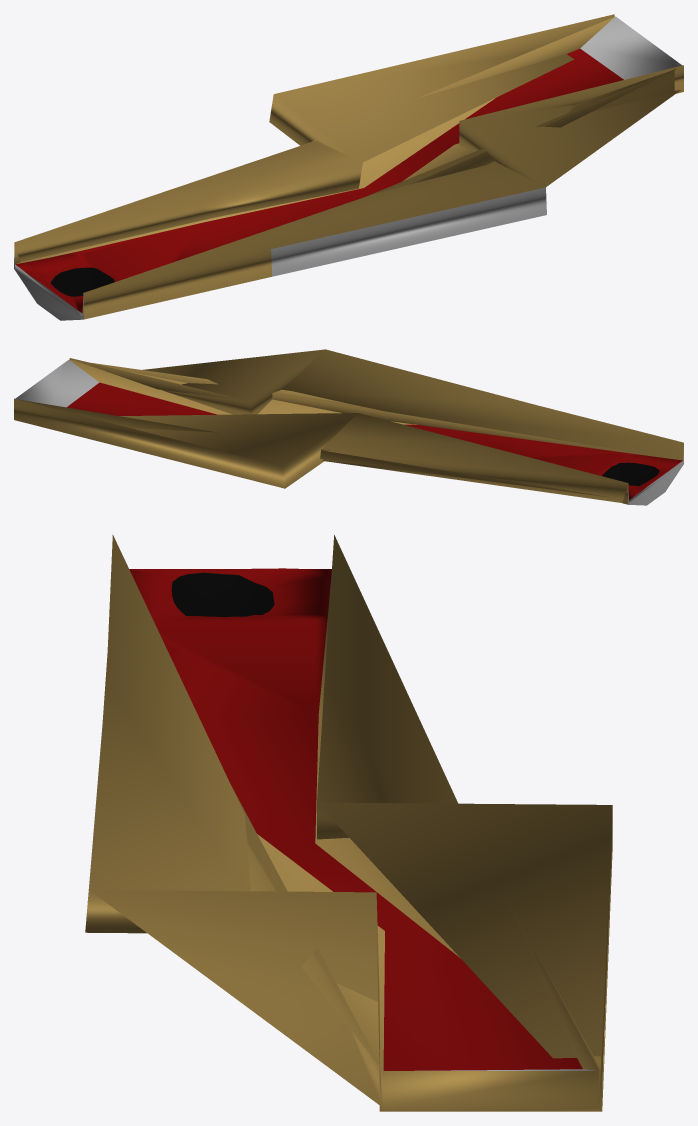
Rendered from testtrack4.fbx.
3 views of the same model, one above another, from view 1: azimuth 30°, elevation 25°; view 2: azimuth 150°, elevation 25°; view 3: azimuth 270°, elevation 25° (orthographic). The views are drawn at different scales.
Visible parts, largest first — view 1: pCube1; view 2: pCube1; view 3: pCube1.
Boxes of the visible parts, <box> form: pCube1: <box>14,14,683,320</box>; pCube1: <box>14,349,683,505</box>; pCube1: <box>85,534,612,1111</box>.
Size of the model in its own units: 47.78 by 2.99 by 19.92.
